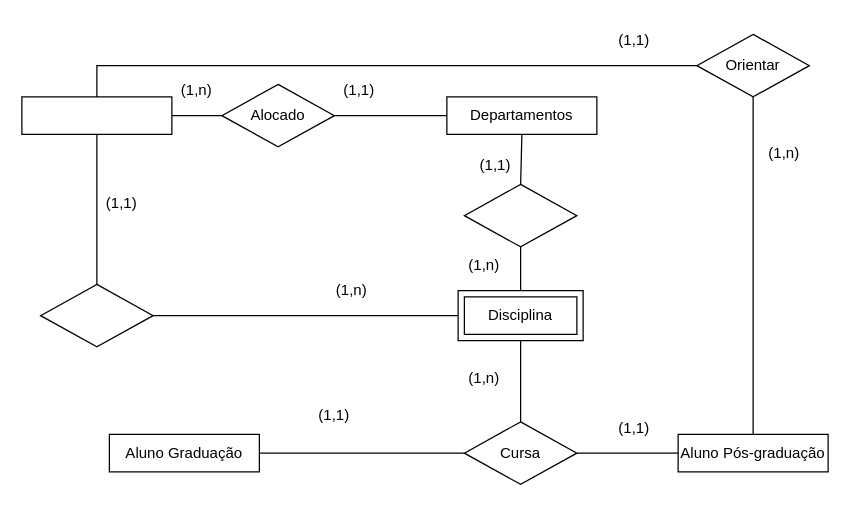
Image size: 850x506. Some labels were removed from this diagram. The shapes that lost their labels are listed below. From the top down, each one's centre as x and y in pixels, then its label:
(x=96, y=115): Orientador
(x=520, y=215): Oferece
(x=96, y=315): Ministrar
